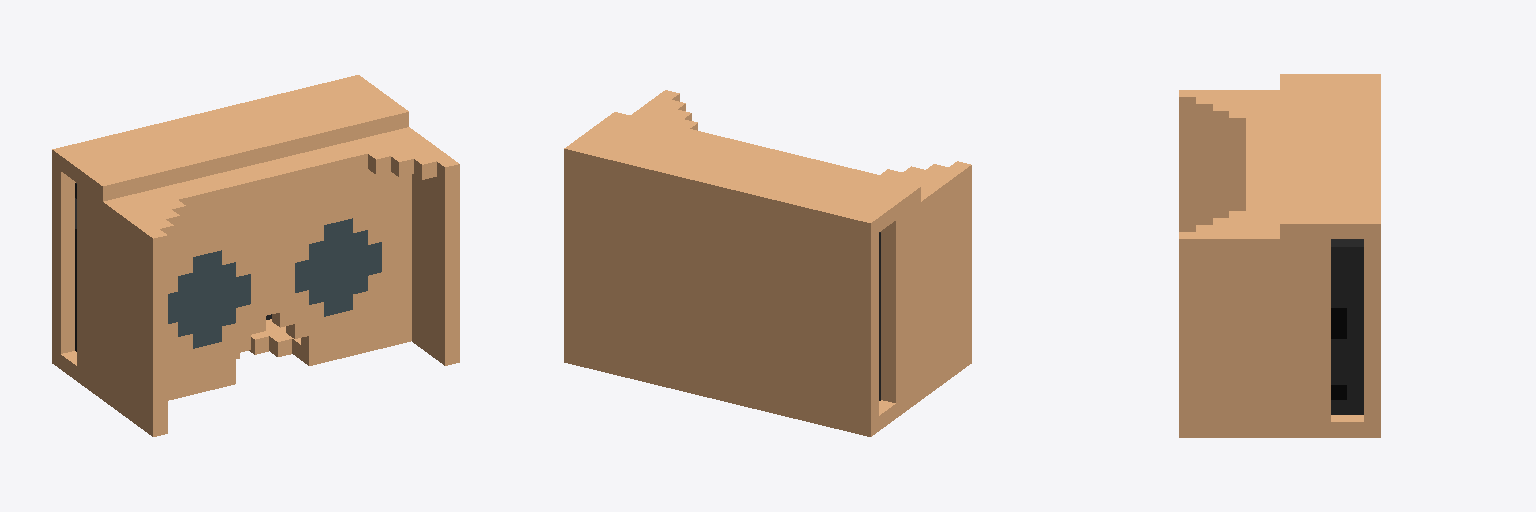
3 views of the same model, side by side, from view 1: azimuth 30°, elevation 25°; view 2: azimuth 150°, elevation 25°; view 3: azimuth 270°, elevation 25° (orthographic).
Parts seen in each view (by area): view 1: Matrix; view 2: Matrix; view 3: Matrix.
Boxes of the visible parts, <box> form: Matrix: <box>52,75,459,436</box>; Matrix: <box>564,90,971,436</box>; Matrix: <box>1179,74,1380,437</box>.
Bounding box in the file's own units: 21 × 14 × 12.
Materials: 1 (1 with a texture image).